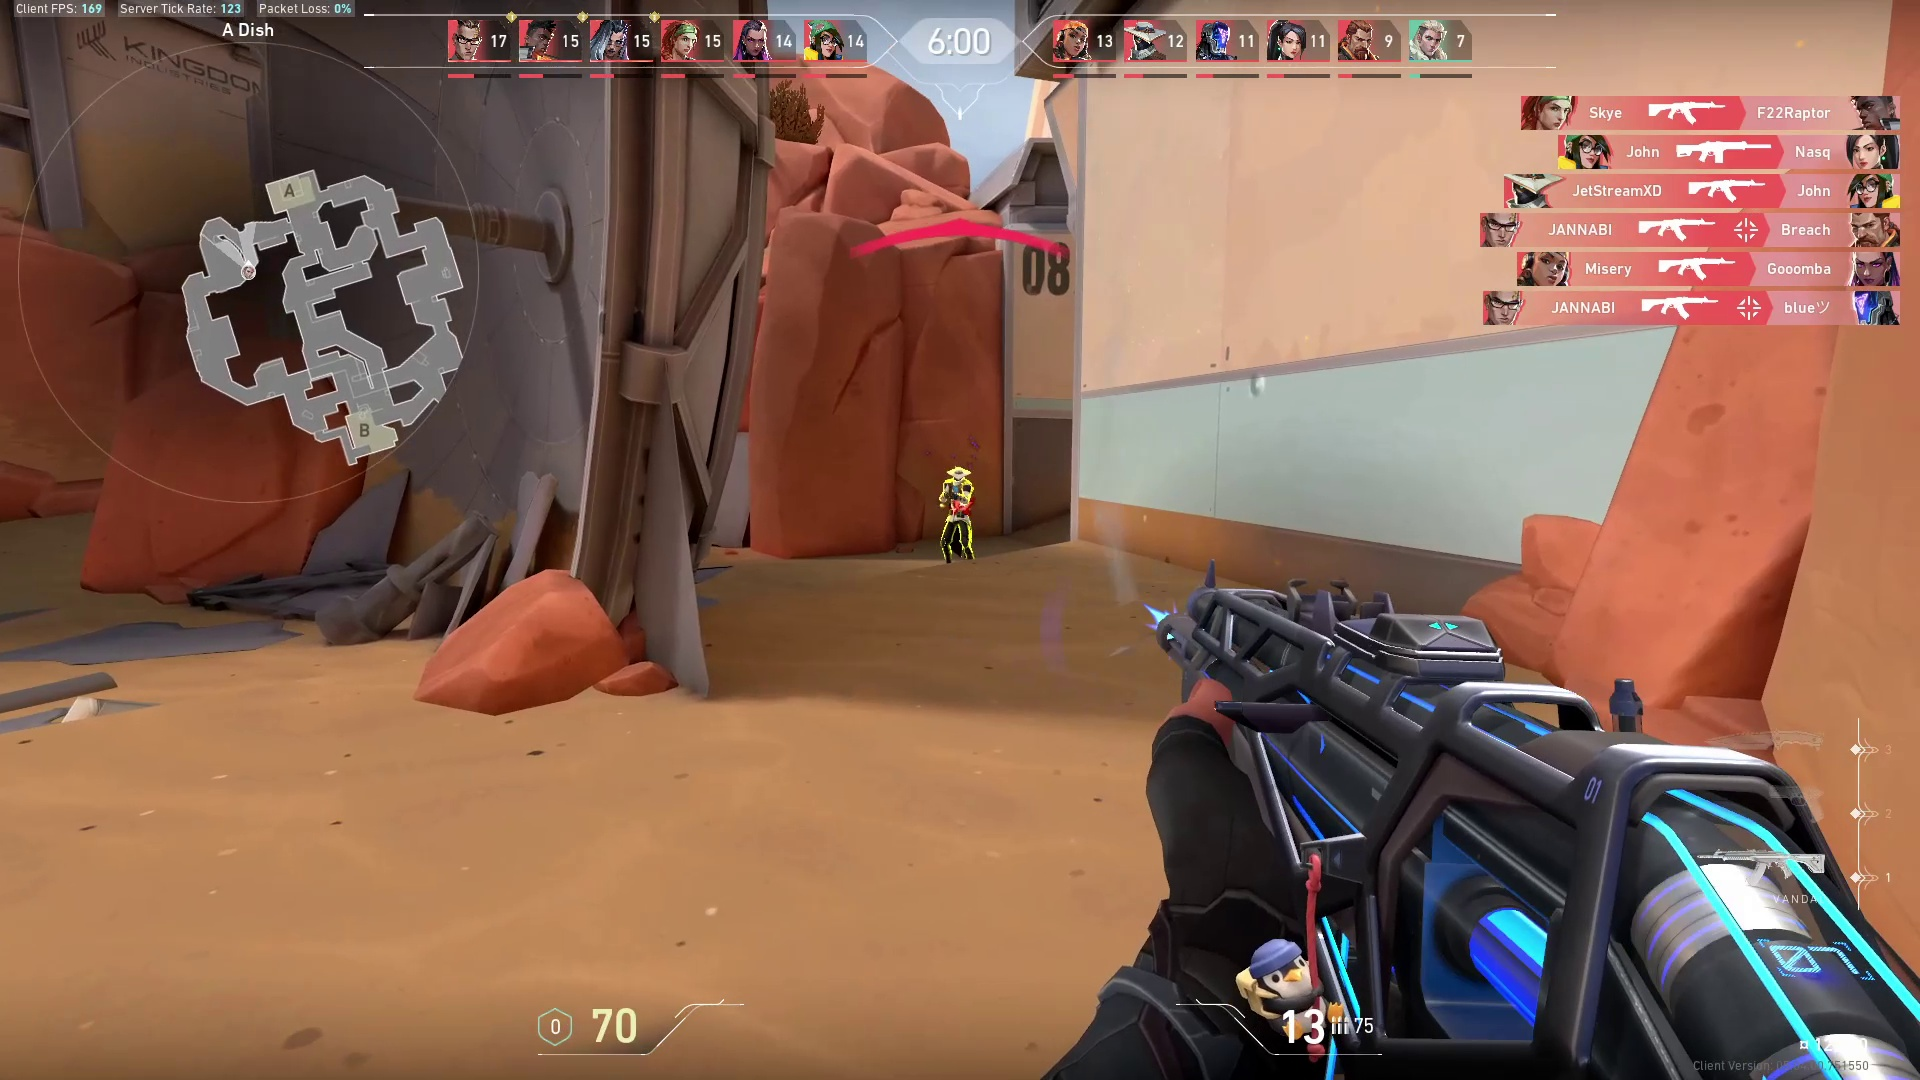enemy_body: (935, 481, 989, 566)
enemy_head: (944, 462, 975, 485)
